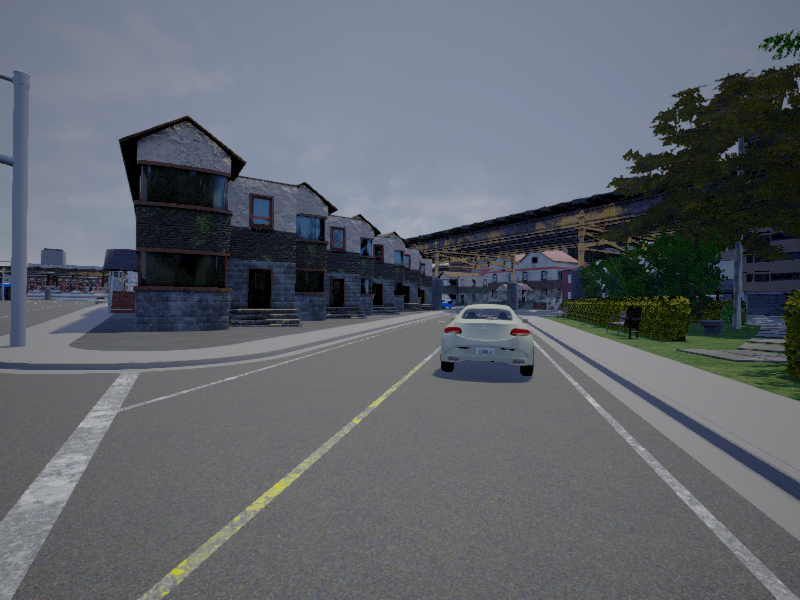Benign: (438, 303, 536, 380)
